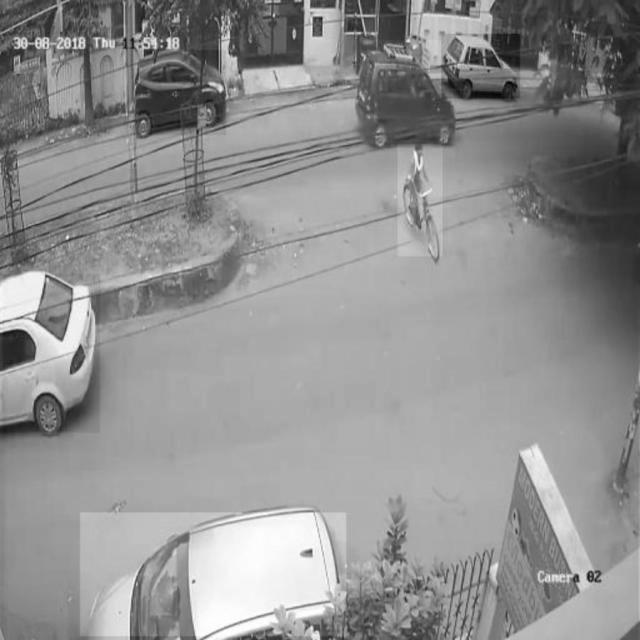vehicle: (81, 513, 347, 637), (2, 274, 100, 432), (360, 40, 456, 142), (131, 50, 225, 134), (398, 144, 443, 256), (442, 34, 520, 98)
